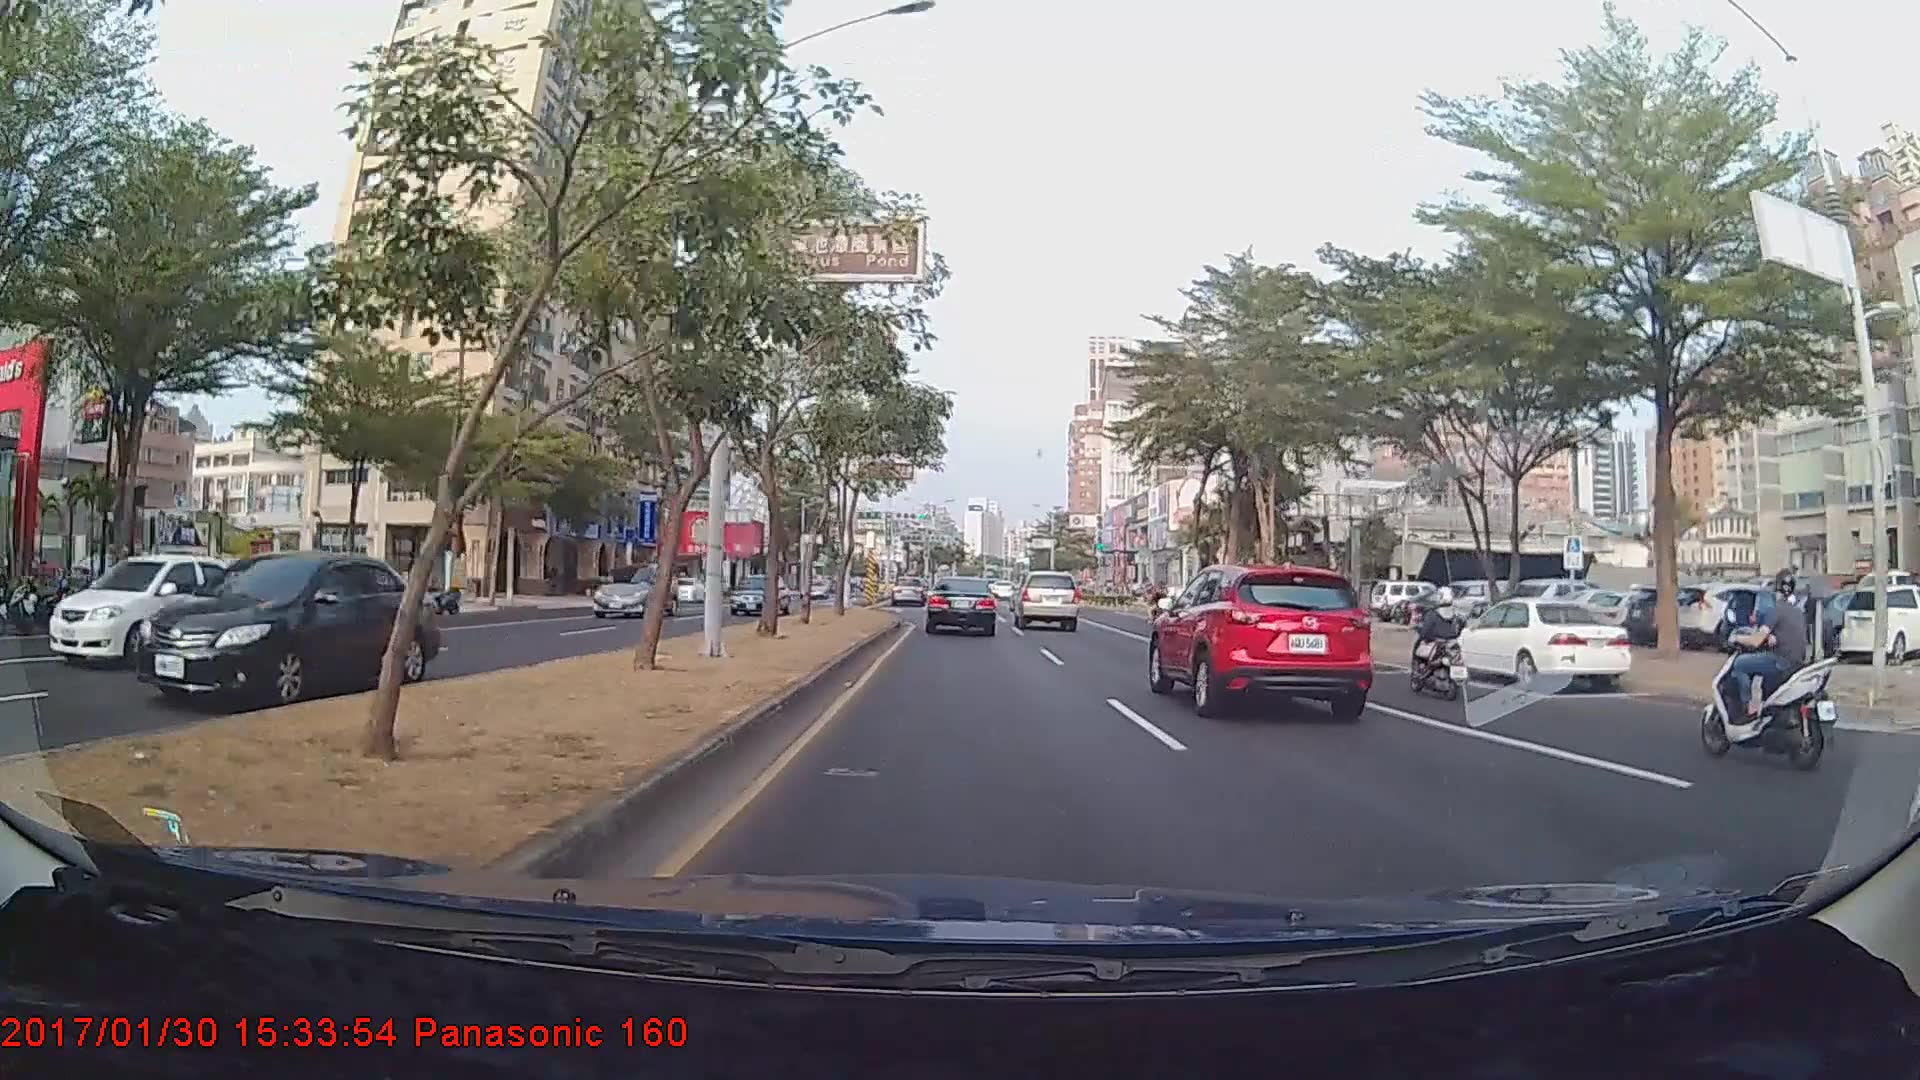rider: (1702, 555, 1836, 771), (1396, 585, 1476, 705)
vehicle: (132, 550, 437, 708), (1146, 564, 1372, 724), (50, 553, 247, 665), (1440, 596, 1635, 690), (1833, 581, 1919, 667), (589, 561, 678, 619), (924, 575, 998, 636), (1012, 569, 1080, 631), (726, 571, 789, 616), (890, 576, 928, 608), (670, 575, 708, 604), (800, 576, 830, 599)
